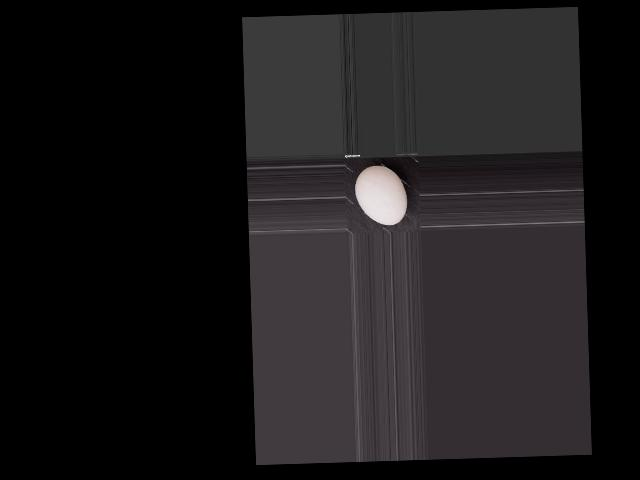egg: (354, 164, 408, 225)
